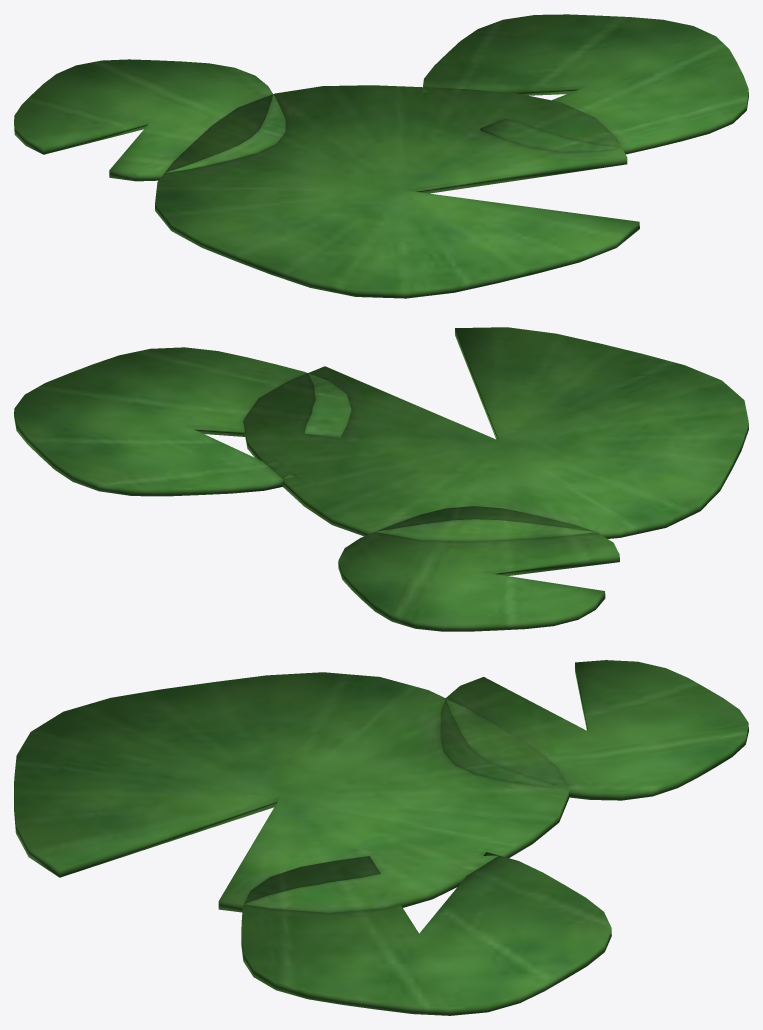
Rendered from lilypad.glb.
The picture shows the model from 3 angles, top to bottom: view 1: azimuth 30°, elevation 25°; view 2: azimuth 150°, elevation 25°; view 3: azimuth 270°, elevation 25°; orthographic projection. The views are drawn at different scales.
Parts seen in each view (by area): view 1: lilypad; view 2: lilypad; view 3: lilypad.
Boxes of the visible parts, bbox=[...] form: lilypad: bbox=[14, 14, 748, 298]; lilypad: bbox=[14, 327, 748, 631]; lilypad: bbox=[14, 660, 748, 1015].
Size of the model in its own units: 1.07 by 0.02 by 0.9539.
Materials: 1 (1 with a texture image).
